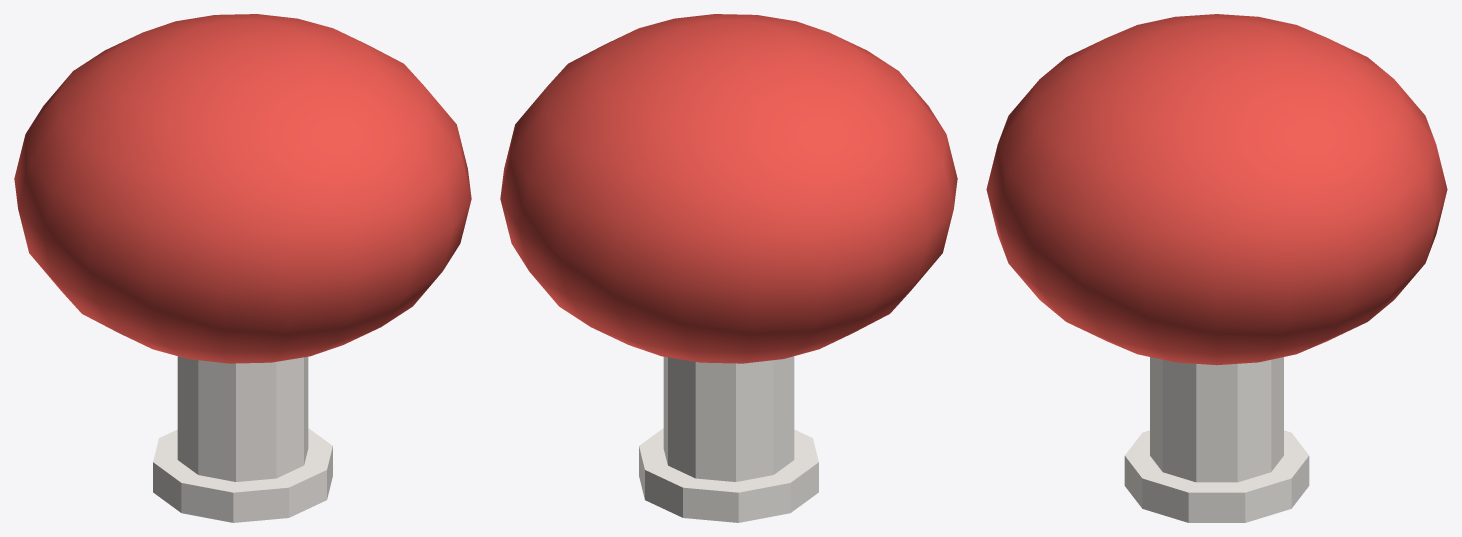
Rendered from mushroom_red.glb.
3 views of the same model, side by side, from view 1: azimuth 30°, elevation 25°; view 2: azimuth 150°, elevation 25°; view 3: azimuth 270°, elevation 25° (orthographic).
Visible parts, largest first — view 1: Sphere, Cylinder, Cylinder.001; view 2: Sphere, Cylinder, Cylinder.001; view 3: Sphere, Cylinder, Cylinder.001.
Boxes of the visible parts, bbox=[...] form: Sphere: bbox=[14, 14, 471, 363]; Cylinder: bbox=[177, 356, 308, 481]; Cylinder.001: bbox=[153, 428, 332, 522]; Sphere: bbox=[500, 14, 957, 363]; Cylinder: bbox=[663, 356, 794, 481]; Cylinder.001: bbox=[639, 428, 818, 522]; Sphere: bbox=[986, 14, 1447, 365]; Cylinder: bbox=[1150, 357, 1283, 482]; Cylinder.001: bbox=[1124, 430, 1309, 522].
Size of the model in its own units: 1.1 by 1.16 by 1.1.
